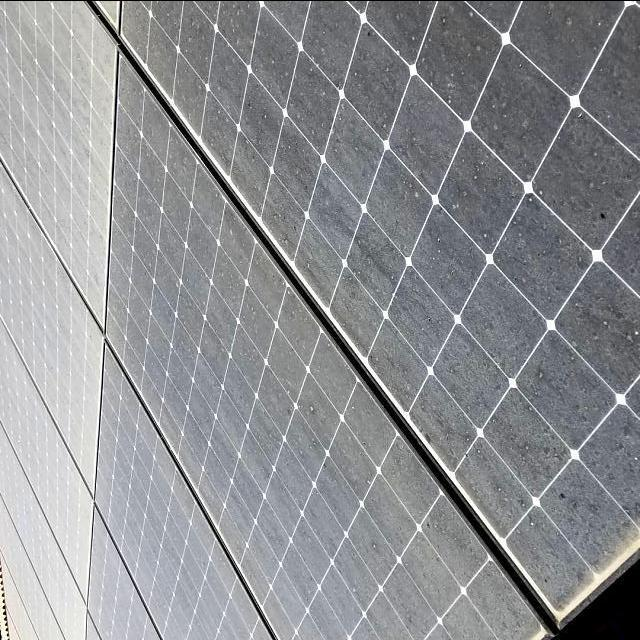soiled: (88, 0, 637, 637)
